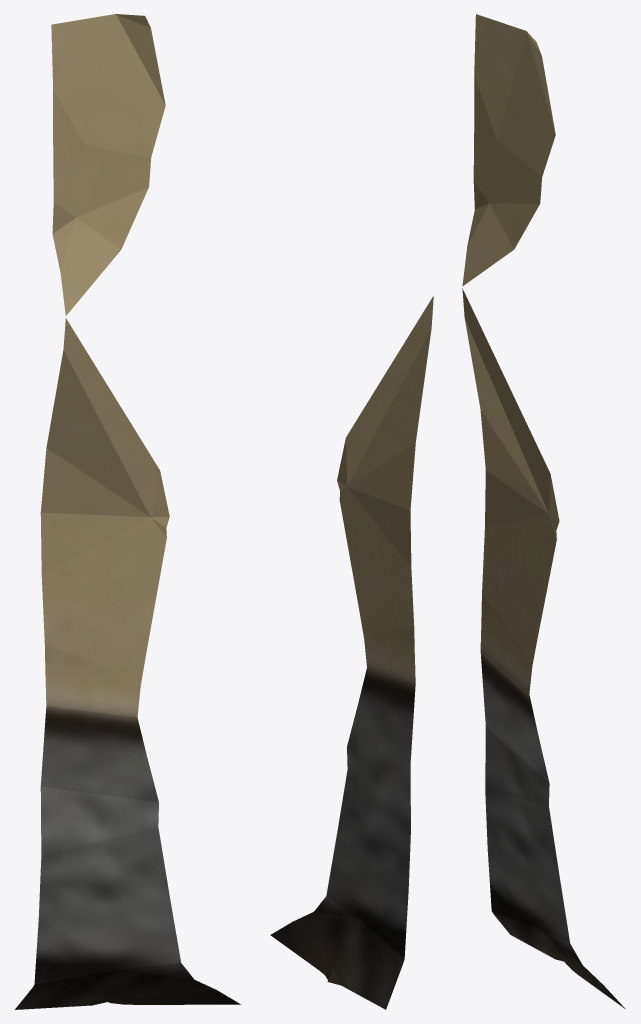
3 renders of one model, left to right at view 1: azimuth 30°, elevation 25°; view 2: azimuth 150°, elevation 25°; view 3: azimuth 330°, elevation 25°, orthographic. The views are drawn at different scales.
Size of the model in its own units: 0.1521 by 0.8374 by 0.0769.
1 material, 1 textured.
